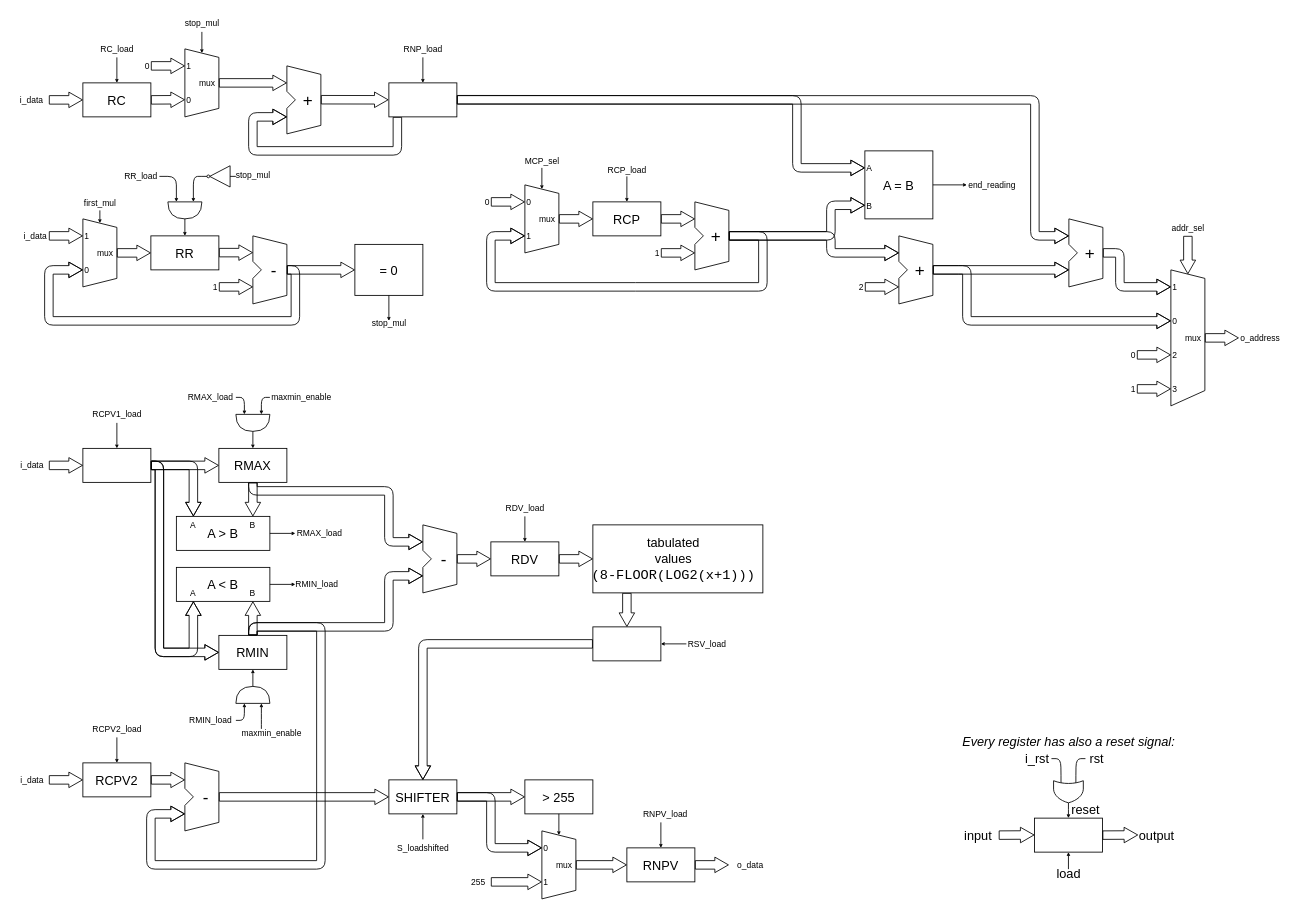
The diagram is 1304 pixels wide and 915 high, and some of its shapes have lost their labels. The box of each missing label's shape, as (x1, y1, x2, y2) in pixels:
RCPV1: (82, 448, 151, 482)
register: (1034, 817, 1102, 852)
RNP: (388, 82, 457, 117)
RSV: (592, 626, 661, 661)
